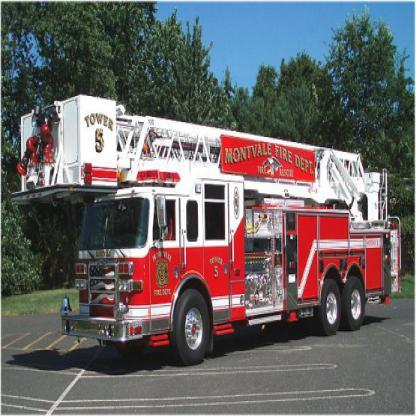fire-truck: (7, 78, 416, 383)
